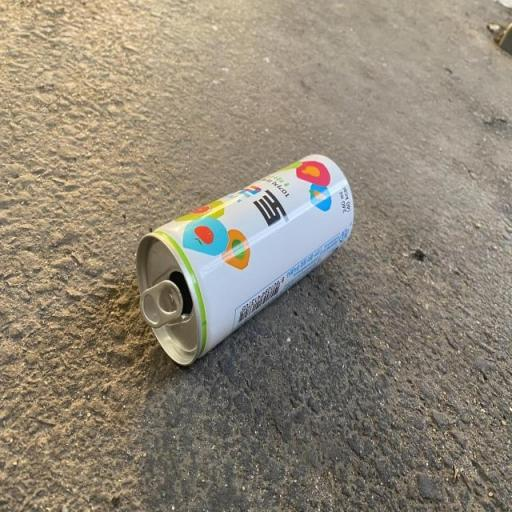metal: (127, 145, 363, 378)
